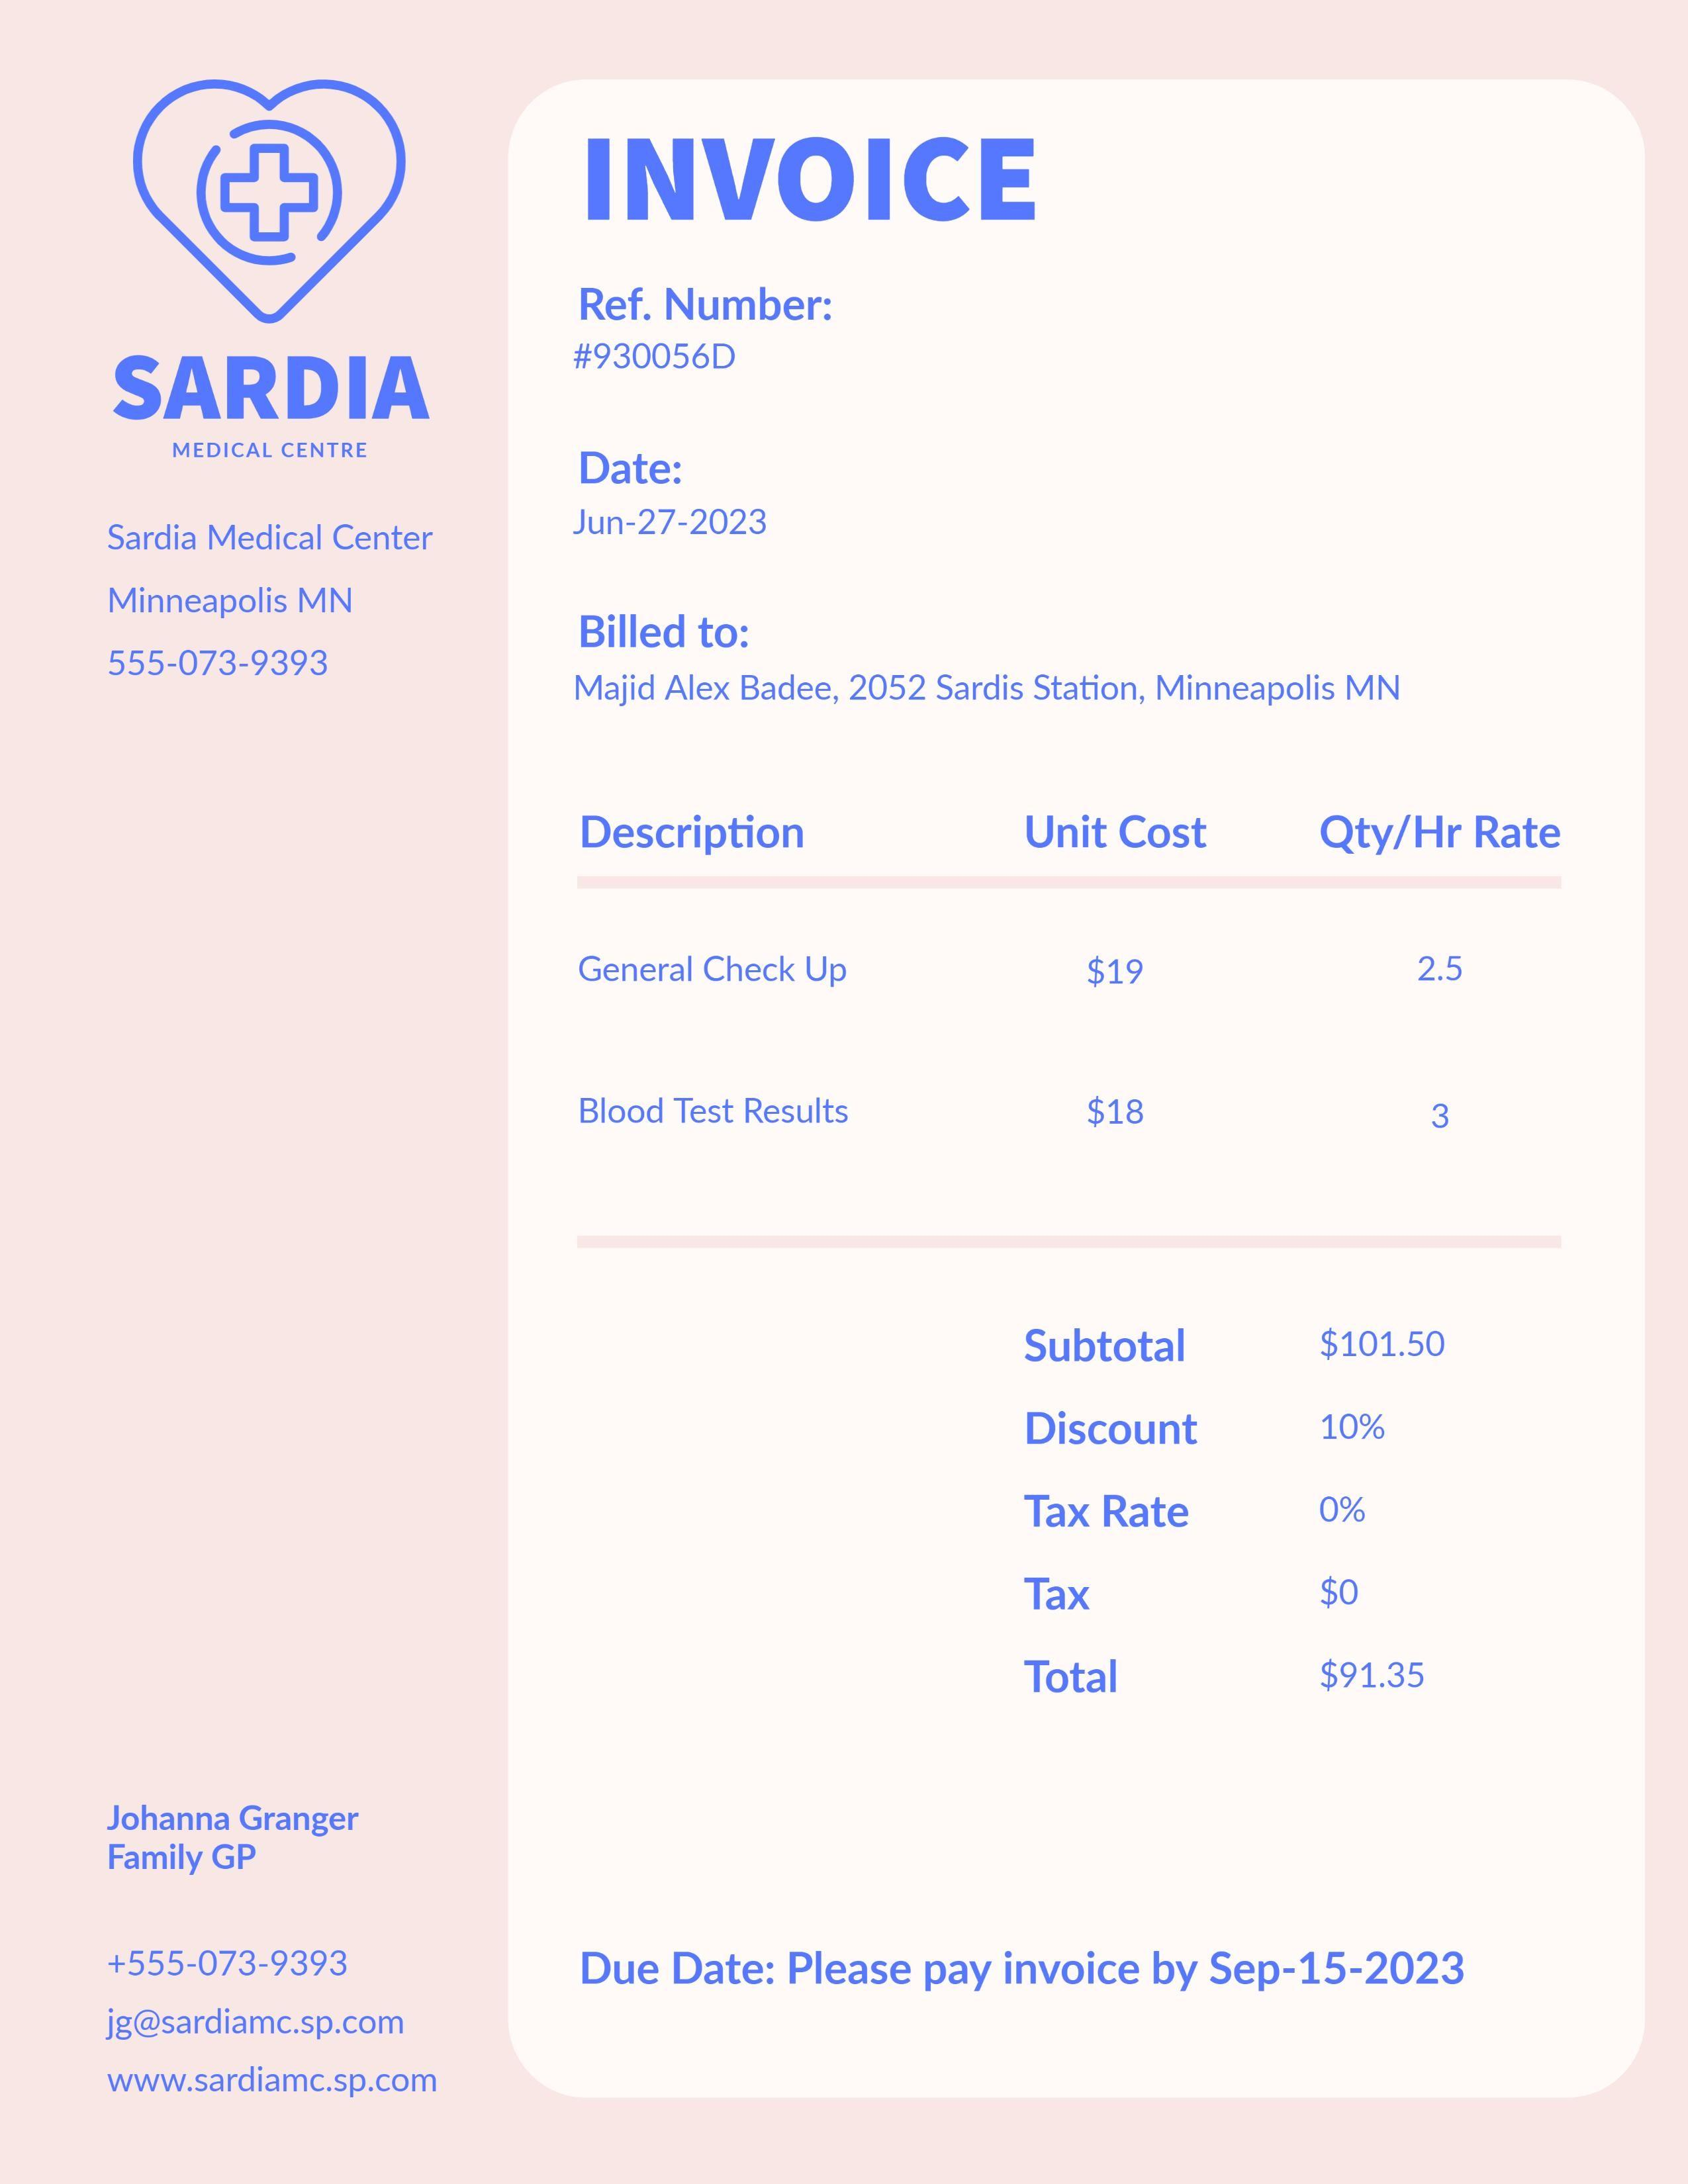ROI: (571, 814, 1575, 1156), (1016, 1315, 1481, 1696), (567, 268, 894, 551), (569, 608, 1431, 711), (92, 495, 442, 700), (544, 1925, 1475, 1996)
